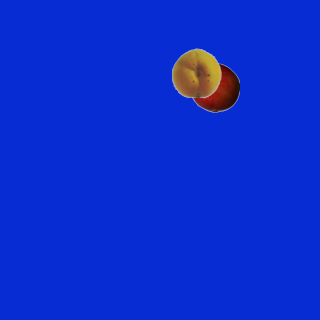Apple Braeburn: (189, 62, 239, 112)
Peach 2: (171, 47, 221, 97)
